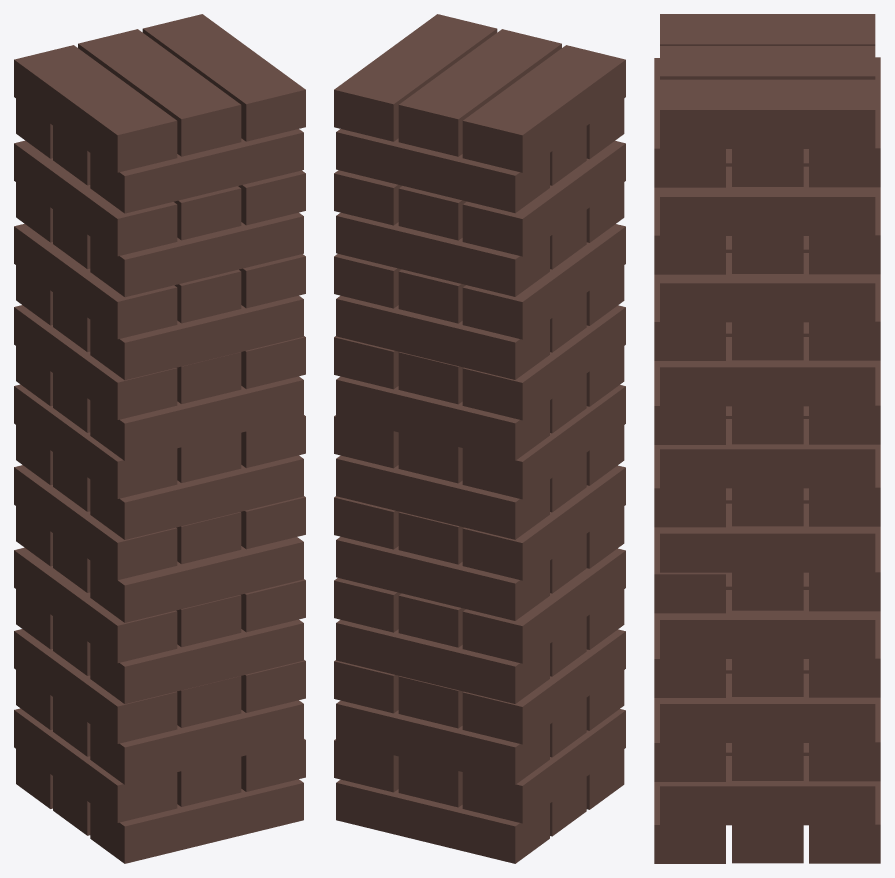
The model's file is jenga.dae.
3 views of the same model, side by side, from view 1: azimuth 30°, elevation 25°; view 2: azimuth 150°, elevation 25°; view 3: azimuth 270°, elevation 25° (orthographic). The views are drawn at different scales.
Visible parts, largest first — view 1: jengablock_050, jengablock_023, jengablock_047, jengablock_035, jengablock_024, jengablock_053, jengablock_036, jengablock_012, jengablock_011, jengablock, jengablock_049, jengablock_048 (+42 smaller); view 2: jengablock_050, jengablock_049, jengablock_048, jengablock_045, jengablock_038, jengablock_014, jengablock_051, jengablock_009, jengablock_002, jengablock_033, jengablock_021, jengablock_026 (+42 smaller); view 3: jengablock_048, jengablock_030, jengablock_029, jengablock_017, jengablock_041, jengablock_018, jengablock_006, jengablock_005, jengablock_042, jengablock_049, jengablock_050, jengablock_051 (+26 smaller).
Part boxes in pixels (x1=…): jengablock_050: x1=14, y1=45, x2=177, y2=172; jengablock_023: x1=90, y1=537, x2=303, y2=622; jengablock_047: x1=90, y1=455, x2=303, y2=539; jengablock_035: x1=90, y1=295, x2=303, y2=380; jengablock_024: x1=90, y1=212, x2=303, y2=297; jengablock_053: x1=90, y1=129, x2=303, y2=213; jengablock_036: x1=90, y1=376, x2=303, y2=460; jengablock_012: x1=90, y1=619, x2=303, y2=703; jengablock_011: x1=90, y1=700, x2=303, y2=784; jengablock: x1=90, y1=779, x2=303, y2=863; jengablock_049: x1=78, y1=29, x2=241, y2=156; jengablock_048: x1=142, y1=14, x2=305, y2=141; jengablock_050: x1=462, y1=45, x2=625, y2=172; jengablock_049: x1=398, y1=29, x2=561, y2=156; jengablock_048: x1=334, y1=14, x2=497, y2=141; jengablock_045: x1=336, y1=455, x2=549, y2=539; jengablock_038: x1=336, y1=376, x2=549, y2=460; jengablock_014: x1=336, y1=619, x2=549, y2=703; jengablock_051: x1=336, y1=129, x2=549, y2=213; jengablock_009: x1=336, y1=700, x2=549, y2=784; jengablock_002: x1=336, y1=779, x2=549, y2=863; jengablock_033: x1=336, y1=295, x2=549, y2=379; jengablock_021: x1=336, y1=536, x2=549, y2=620; jengablock_026: x1=336, y1=212, x2=549, y2=296; jengablock_048: x1=660, y1=79, x2=875, y2=148; jengablock_030: x1=660, y1=253, x2=875, y2=322; jengablock_029: x1=660, y1=166, x2=875, y2=235; jengablock_017: x1=660, y1=590, x2=875, y2=658; jengablock_041: x1=660, y1=337, x2=875, y2=406; jengablock_018: x1=660, y1=503, x2=875, y2=572; jengablock_006: x1=660, y1=673, x2=875, y2=742; jengablock_005: x1=660, y1=756, x2=875, y2=825; jengablock_042: x1=660, y1=419, x2=875, y2=488; jengablock_049: x1=660, y1=46, x2=875, y2=79; jengablock_050: x1=660, y1=14, x2=875, y2=45; jengablock_051: x1=809, y1=57, x2=880, y2=187.
Size of what is drawn, in the model's own units: 15.78 by 15.78 by 58.27.
